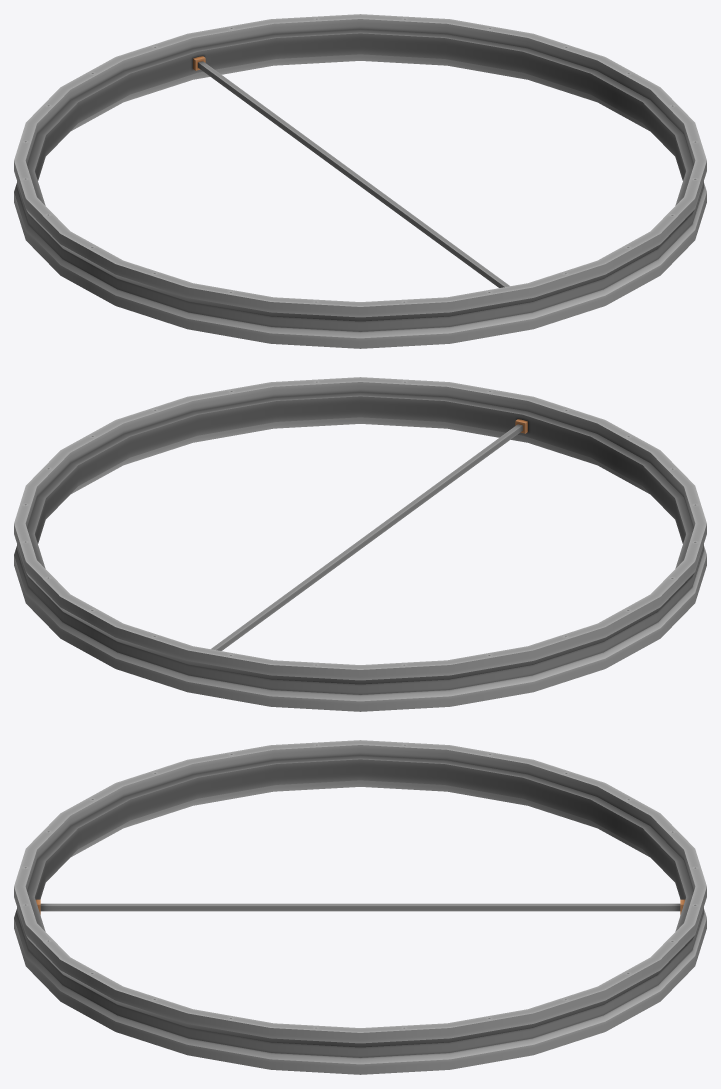
Rendered from LLV_B_Decoupler_1.obj.
3 views of the same model, one above another, from view 1: azimuth 30°, elevation 25°; view 2: azimuth 150°, elevation 25°; view 3: azimuth 270°, elevation 25° (orthographic).
Parts seen in each view (by area): view 1: LLV_B_Decoupler_1; view 2: LLV_B_Decoupler_1; view 3: LLV_B_Decoupler_1.
Boxes of the visible parts, box(x1,y1,x2,y2) form: LLV_B_Decoupler_1: box(14, 14, 706, 348); LLV_B_Decoupler_1: box(14, 377, 706, 711); LLV_B_Decoupler_1: box(14, 740, 706, 1074).
Size of the model in its own units: 3.75 by 0.25 by 3.75.
